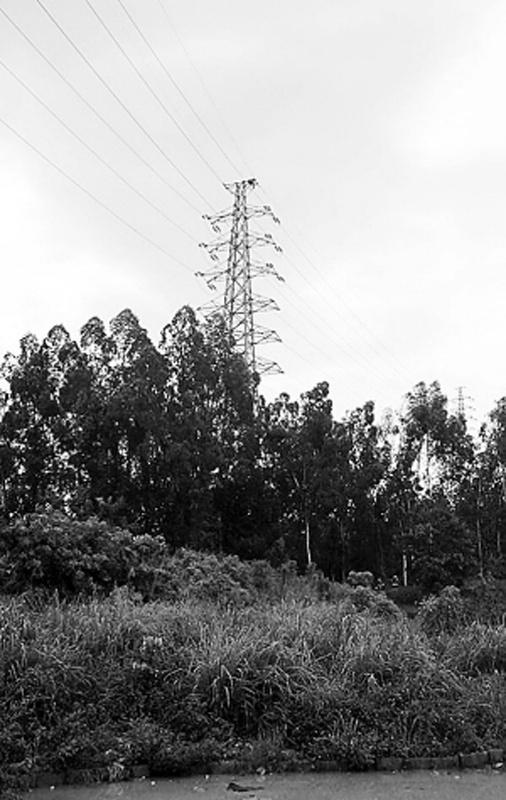power_tower: (188, 176, 297, 371)
